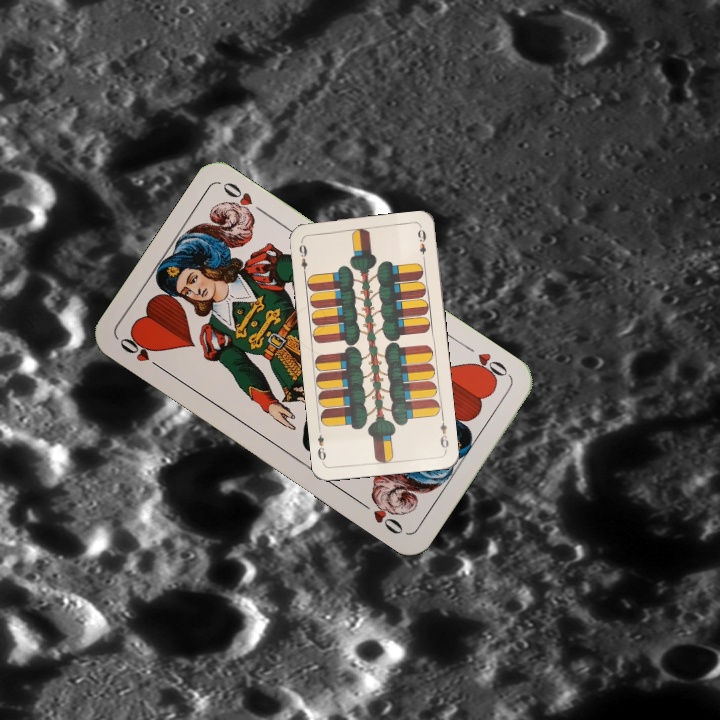E9: (436, 412, 451, 453), (295, 237, 310, 278)
HO: (460, 341, 512, 384), (115, 332, 167, 374)
